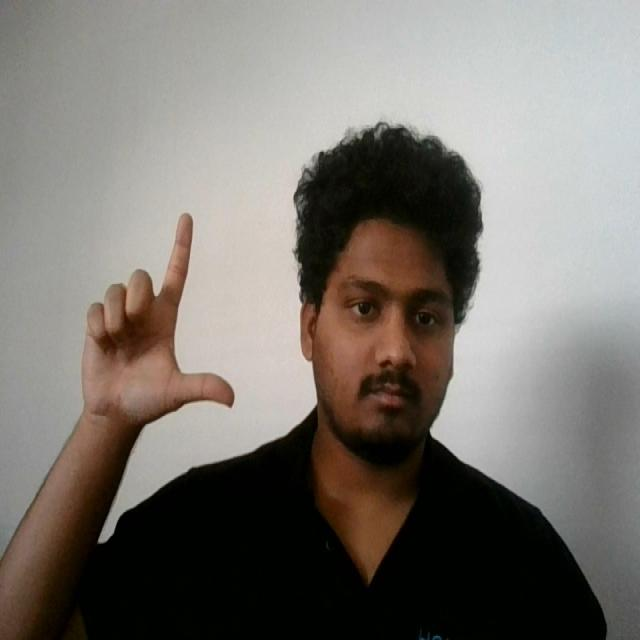IloveYou: (75, 202, 236, 450)
